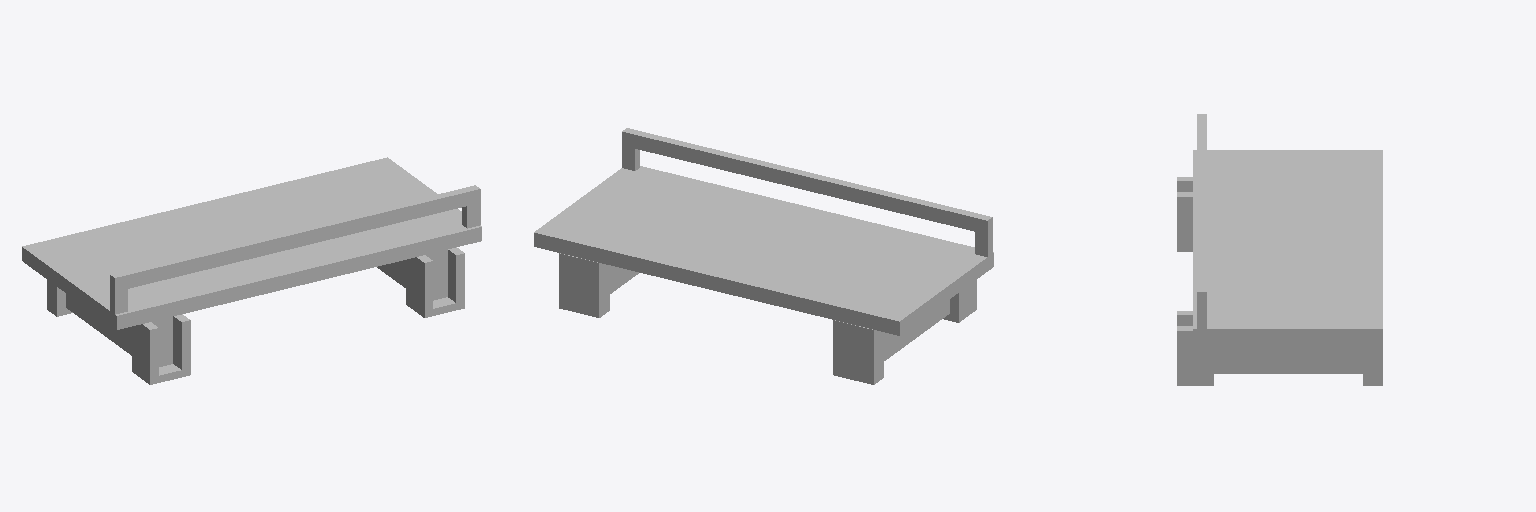
The model's file is Ledge.obj.
The picture shows the model from 3 angles: view 1: azimuth 30°, elevation 25°; view 2: azimuth 150°, elevation 25°; view 3: azimuth 270°, elevation 25°; orthographic projection.
Parts seen in each view (by area): view 1: pCube1, pCube3, pCube4, pCube5; view 2: pCube1, pCube3, pCube4, pCube5; view 3: pCube1, pCube5, pCube3, pCube4.
Part boxes in pixels (bbox=[...]): pCube1: bbox=[22, 157, 481, 329]; pCube3: bbox=[110, 185, 480, 314]; pCube4: bbox=[47, 280, 190, 384]; pCube5: bbox=[377, 247, 464, 317]; pCube1: bbox=[534, 166, 993, 335]; pCube3: bbox=[622, 128, 992, 256]; pCube4: bbox=[833, 280, 976, 384]; pCube5: bbox=[559, 253, 638, 317]; pCube1: bbox=[1193, 150, 1382, 342]; pCube5: bbox=[1177, 311, 1382, 385]; pCube3: bbox=[1197, 114, 1206, 328]; pCube4: bbox=[1177, 177, 1192, 251].
Bounding box in the file's own units: 8 × 2.22 × 3.91.